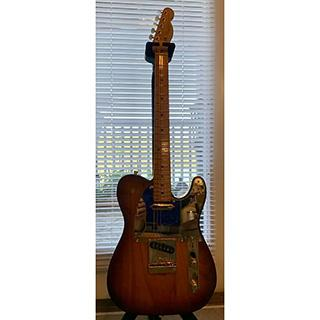Fender Telecaster: (105, 6, 219, 318)
SS: (148, 199, 179, 258)
